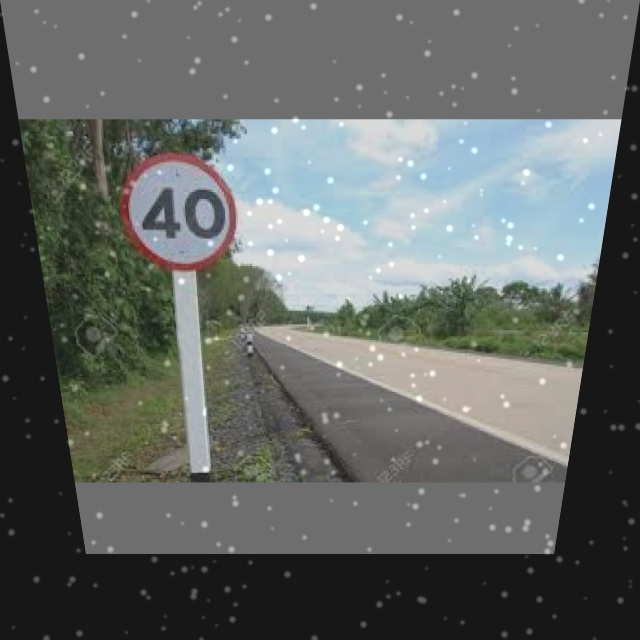Speed_Limit_40: (118, 146, 238, 269)
